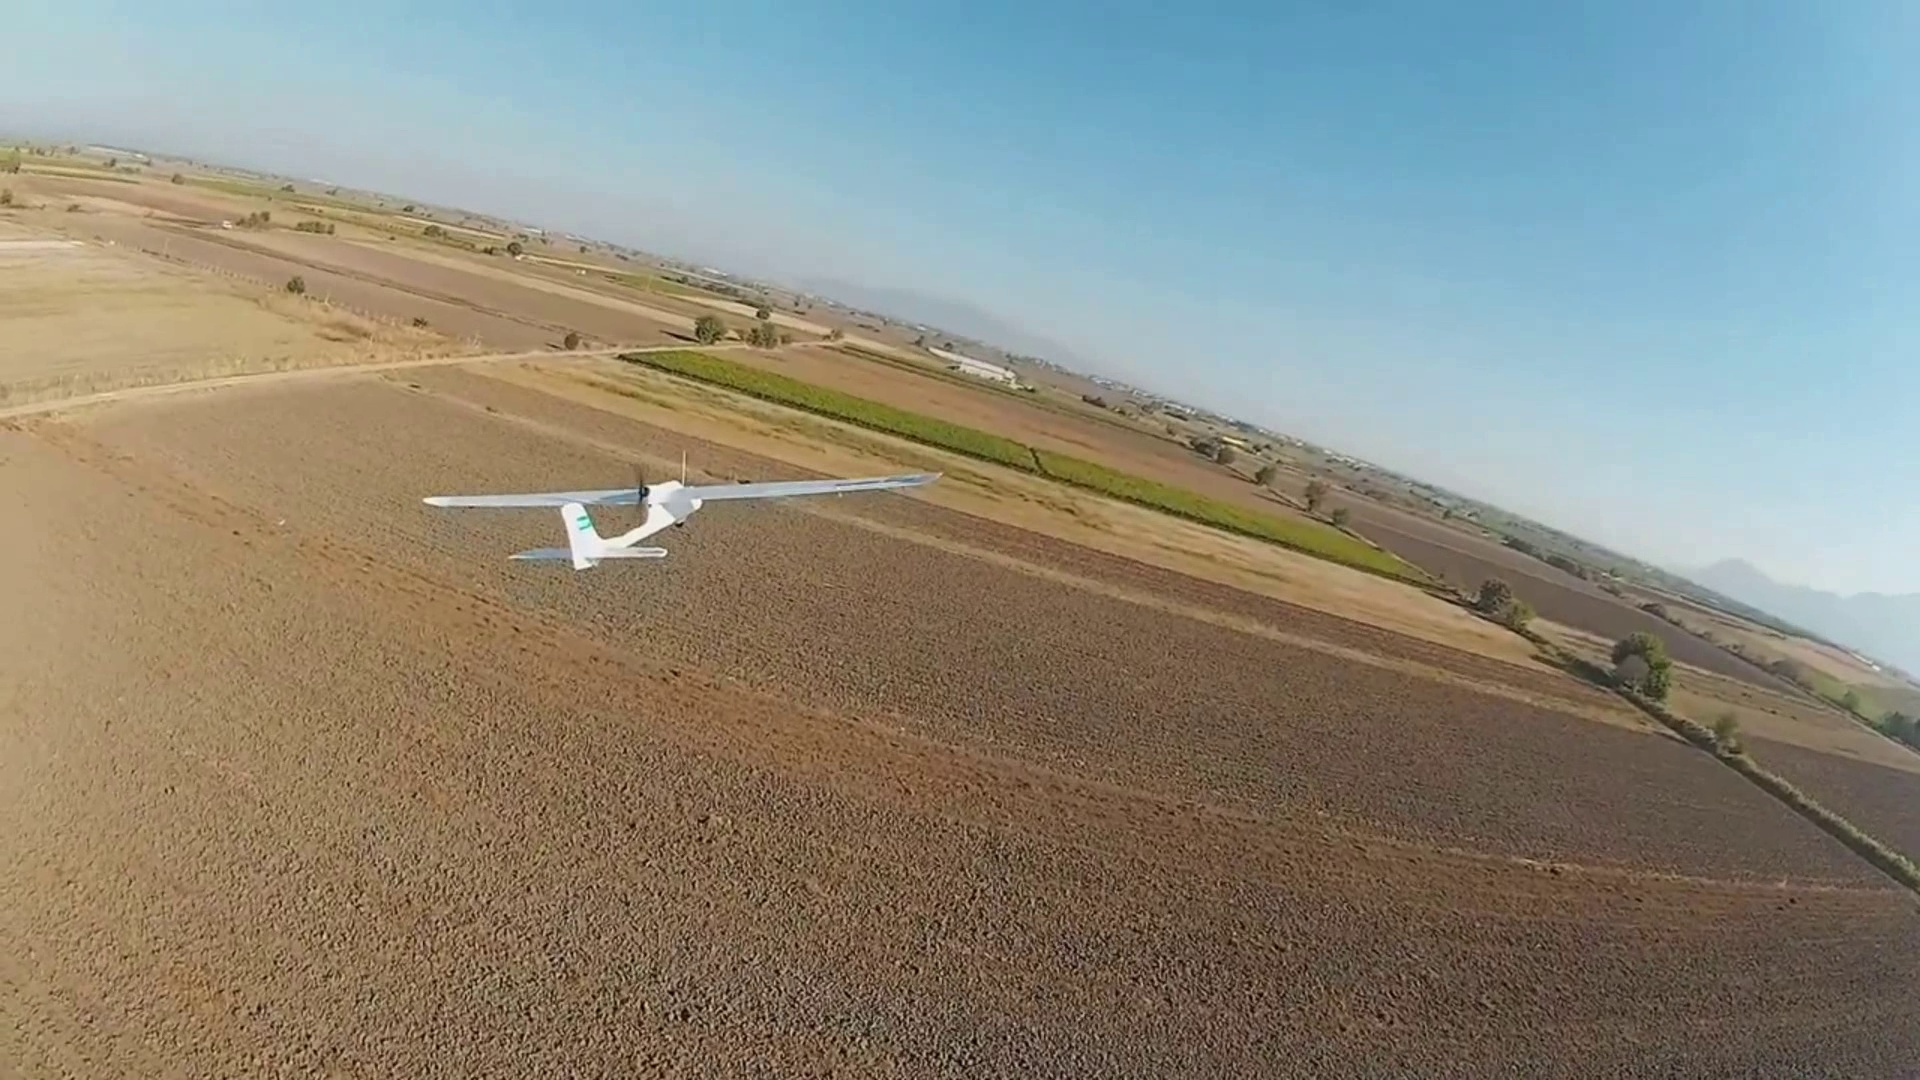airplane: (420, 471, 935, 569)
